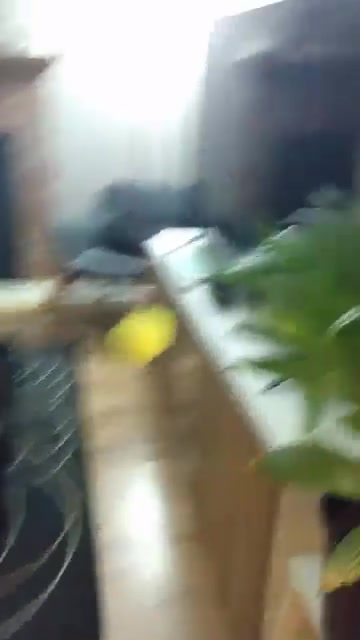tennis_ball: (105, 305, 180, 367)
